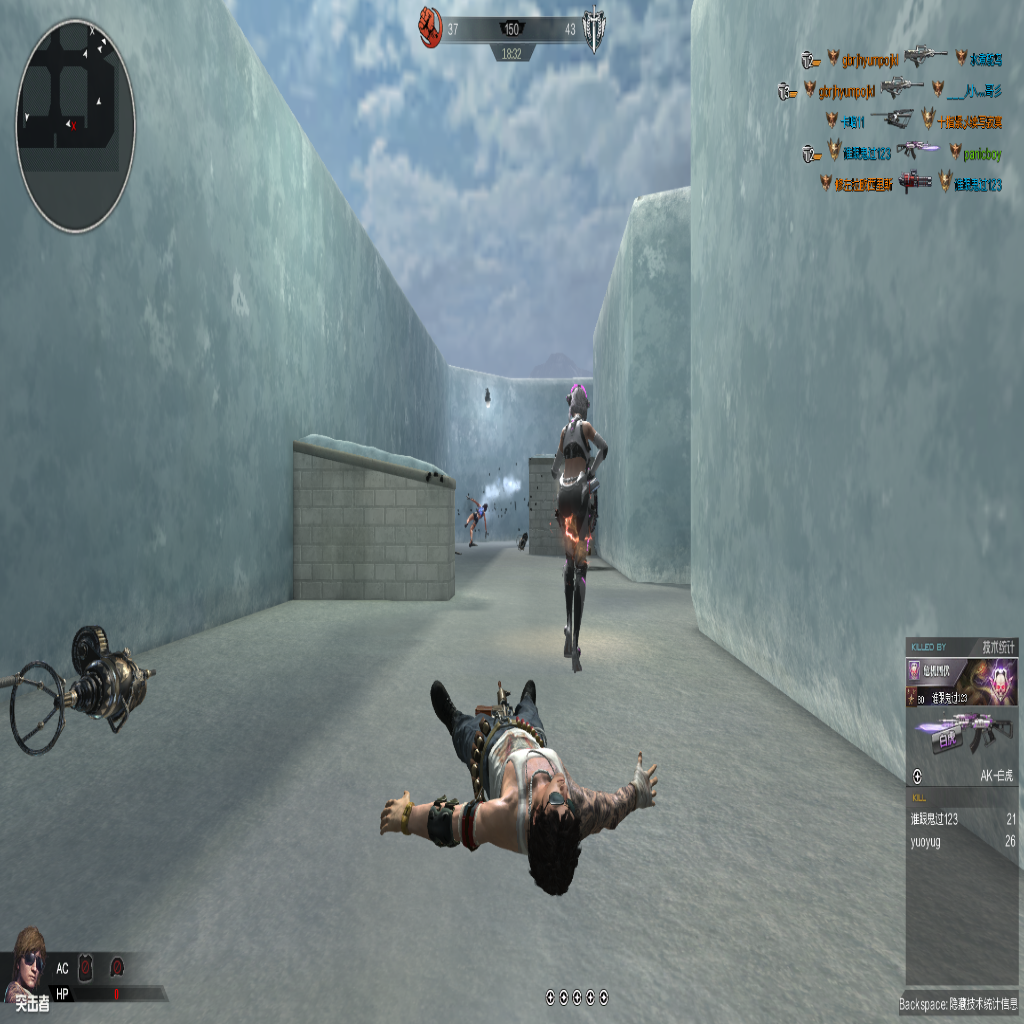tt: (554, 380, 607, 666)
